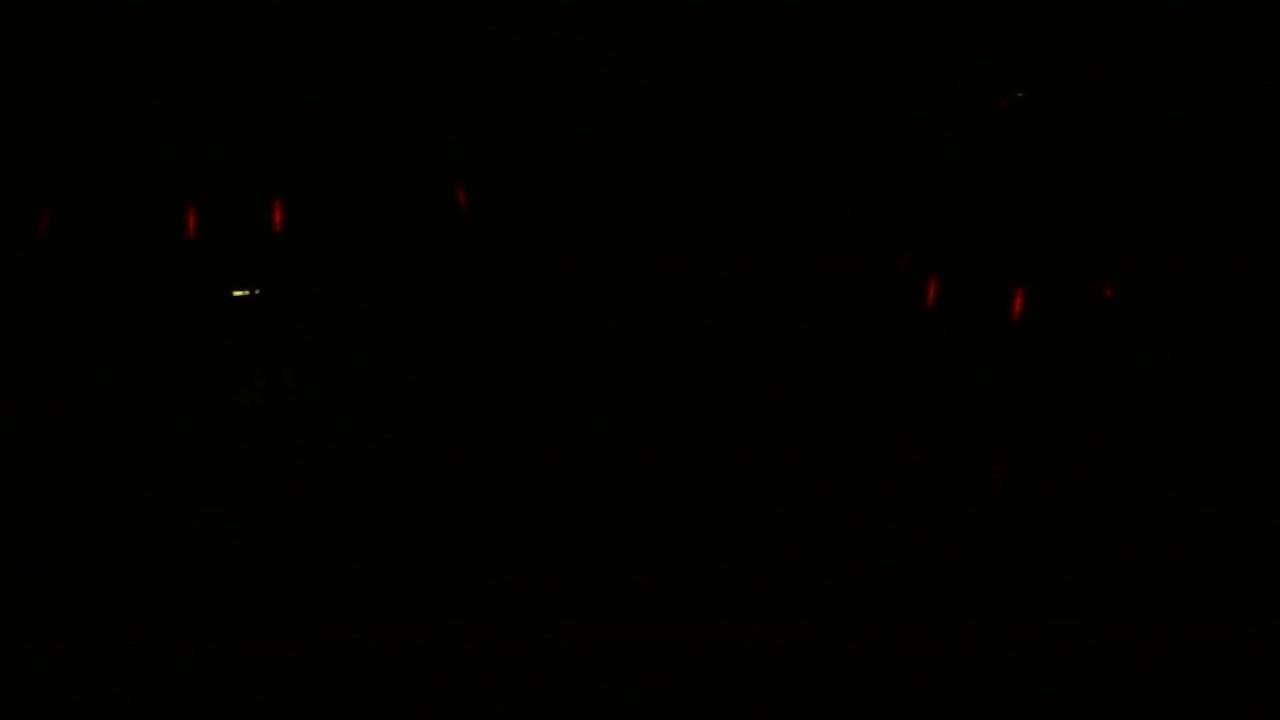pair1: (926, 266, 1025, 323), (178, 197, 289, 237)
